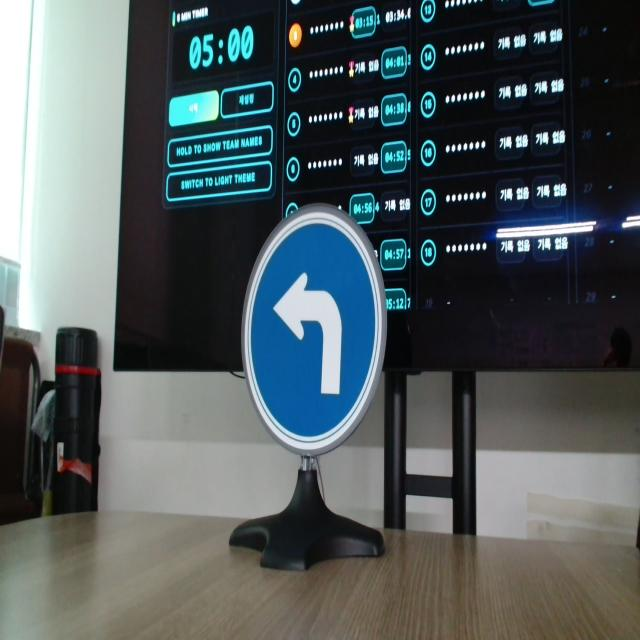left_direction: (238, 204, 389, 458)
